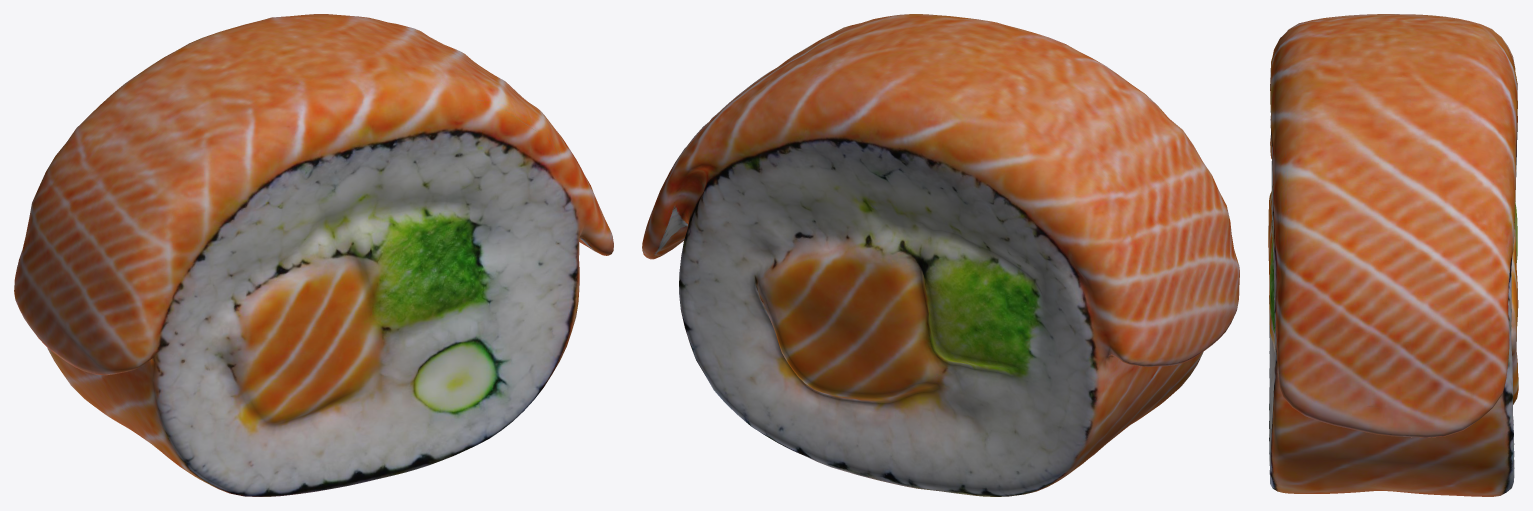
File: 27ba5481a3da_Sushi_min.fbx
3 renders of one model, left to right at view 1: azimuth 30°, elevation 25°; view 2: azimuth 150°, elevation 25°; view 3: azimuth 270°, elevation 25°, orthographic.
Visible parts, largest first — view 1: mesh; view 2: mesh; view 3: mesh.
Boxes of the visible parts, x1=… form: mesh: x1=14, y1=14, x2=613, y2=496; mesh: x1=642, y1=14, x2=1239, y2=496; mesh: x1=1268, y1=14, x2=1518, y2=496.
Size of the model in its own units: 99.98 by 72.61 by 41.15.
